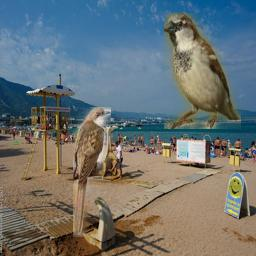Cuckoo: (73, 107, 111, 237)
Sparrow: (164, 13, 241, 129)
